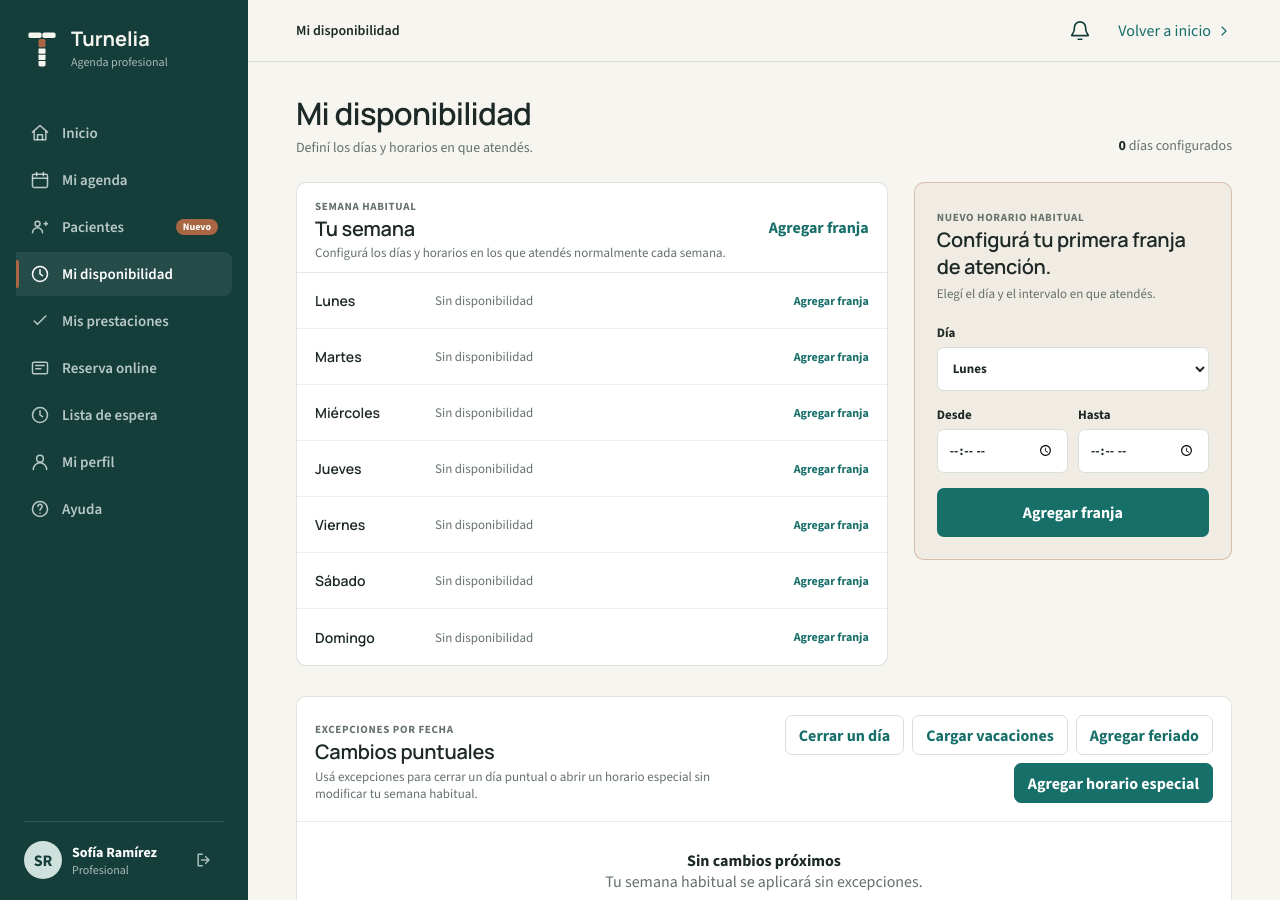
Test: mi disponibilidad profesional Signature › preselecciona el día y abre el único formulario
Click the button "Agregar franja" in the row of "Jueves".
click(831, 469)  # box x1=794 y1=461 x2=869 y2=477
(page scrolled)
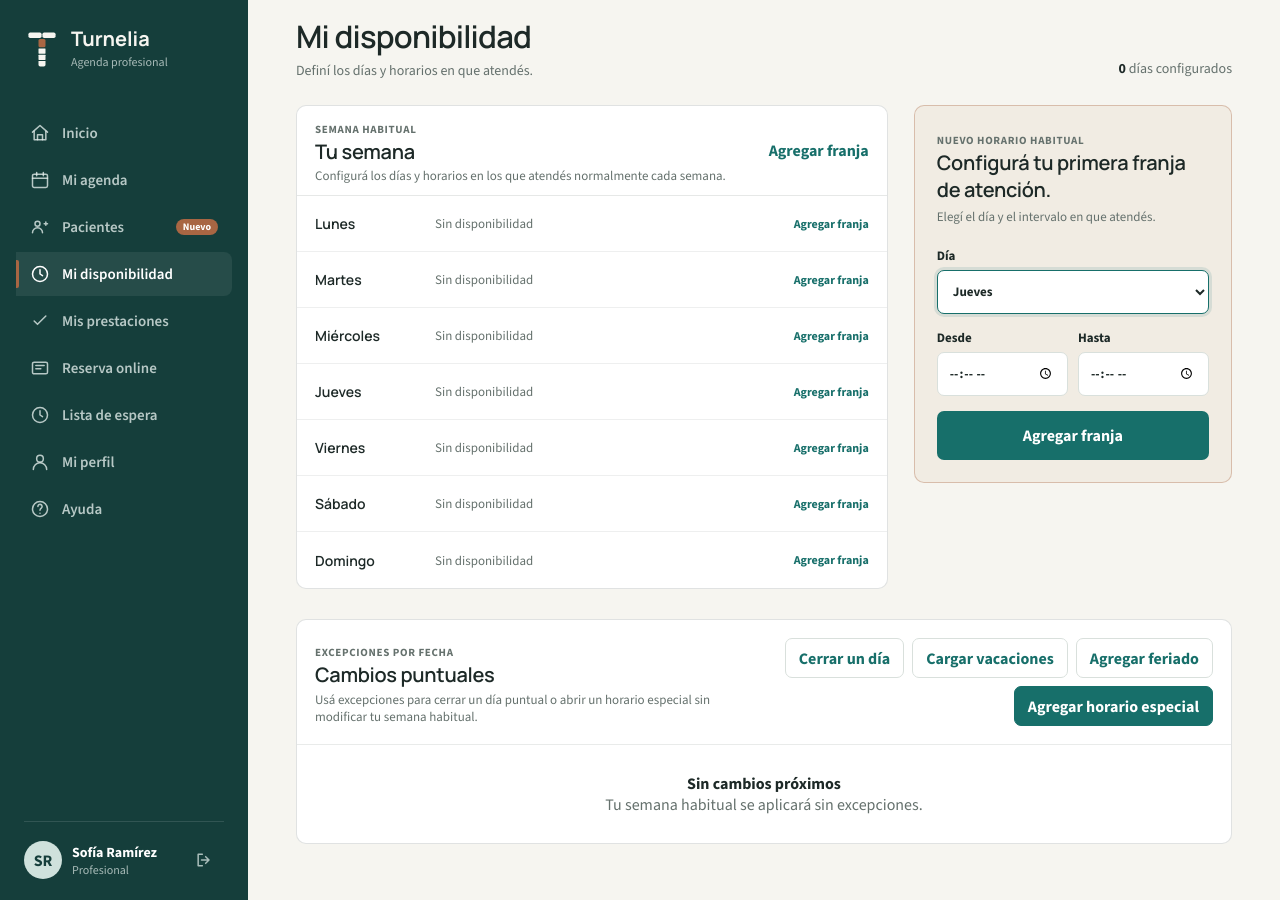
Check: the dropdown labelled "Día" shows "Jueves", box x1=937 y1=270 x2=1209 y2=314
